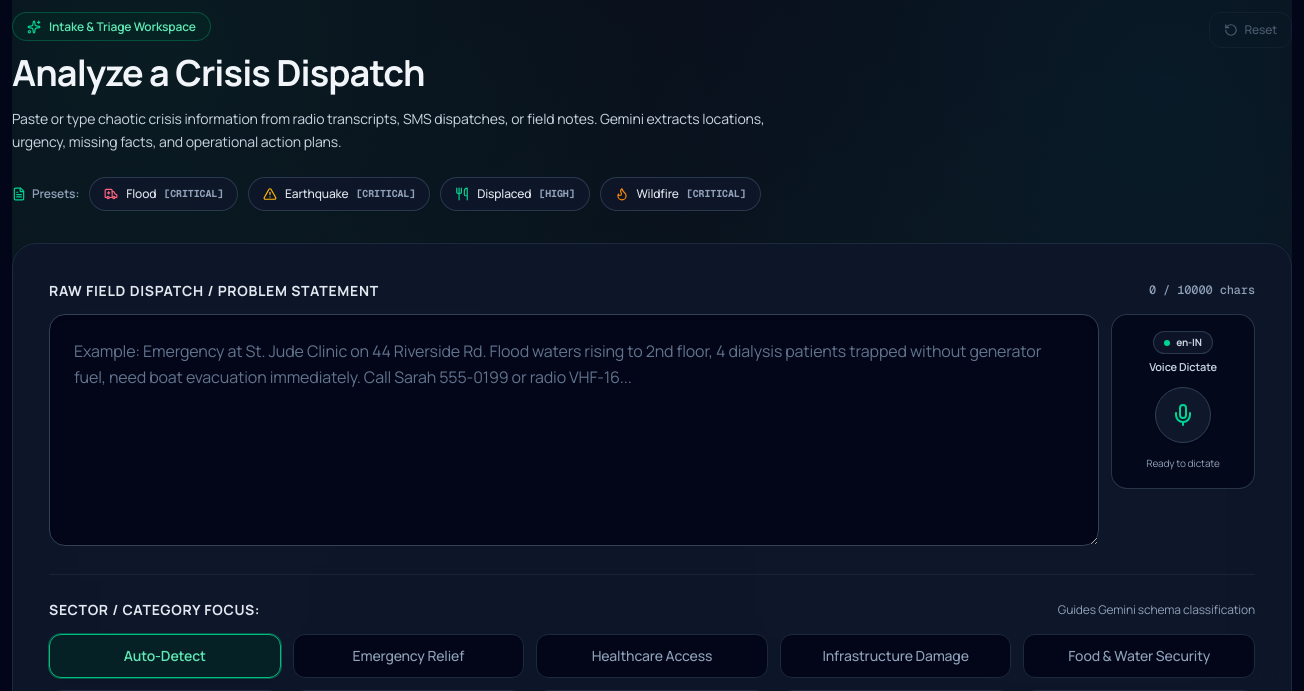
AnalyzeSection Accessibility & Language Integration › updates live character counter accurately and supports reset
Check: the text "0 / 10000 chars" is shown, box [1149,281,1255,301]
Type input
Replace the text in the text box with placeholder "Example: Emergency at St. Jude Clinic" with "Disaster warning for district five." at (574, 430), box [49,314,1099,546]
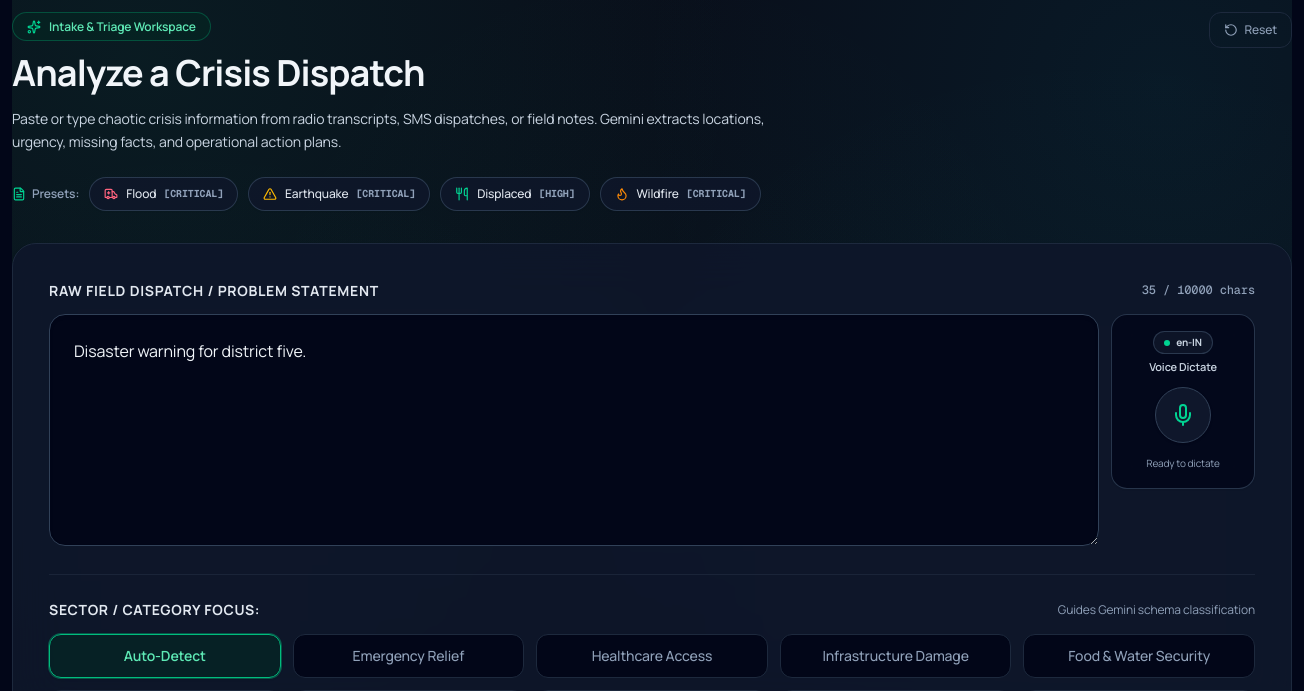
Check: the text "35 / 10000 chars" is shown, box [1142,281,1255,301]
Check: the button with aria-label "Clear all inputs and reset form" is enabled
Click the button with aria-label "Clear all inputs and reset form".
click(1251, 30)  # box [1210,12,1292,48]
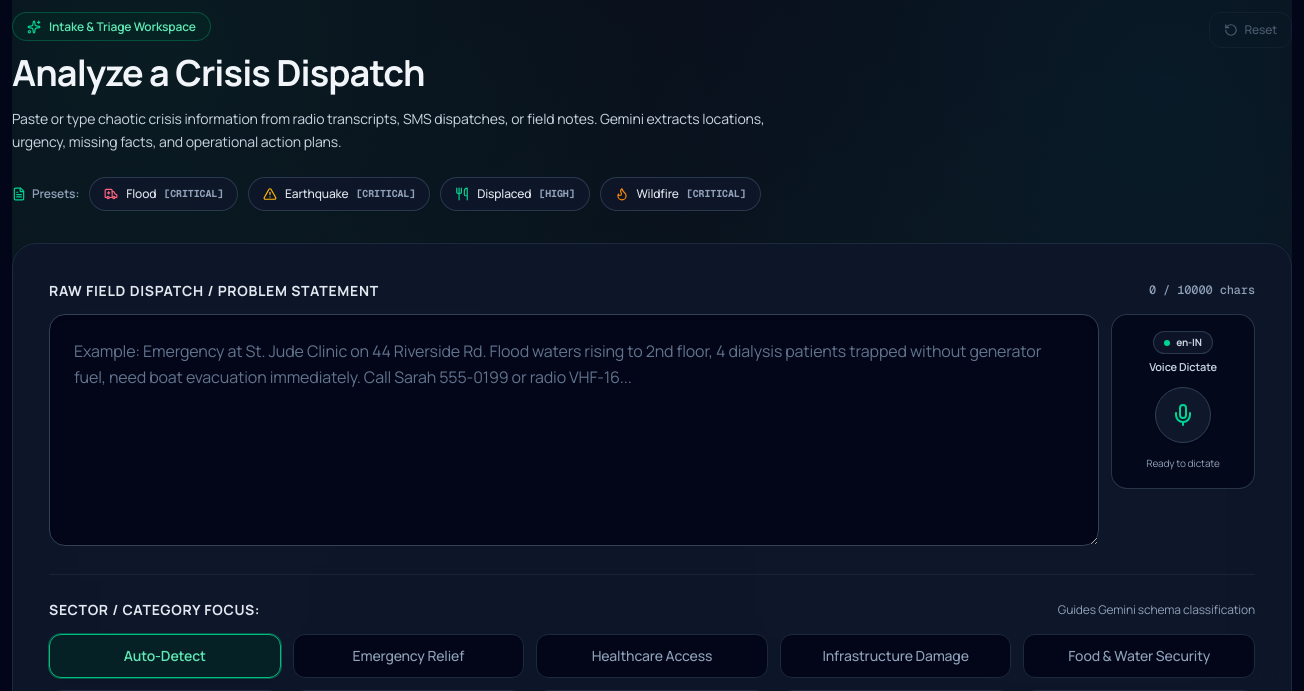
Check: the text box with placeholder "Example: Emergency at St. Jude Clinic" is empty, box [49,314,1099,546]
Check: the text "0 / 10000 chars" is shown, box [1149,281,1255,301]
